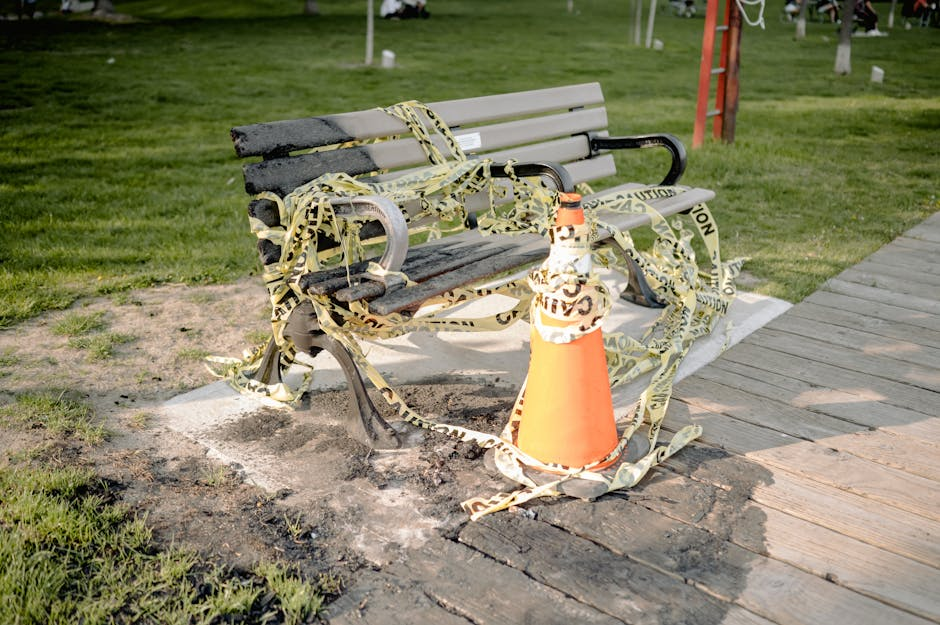traffic_cone: (497, 190, 625, 475)
